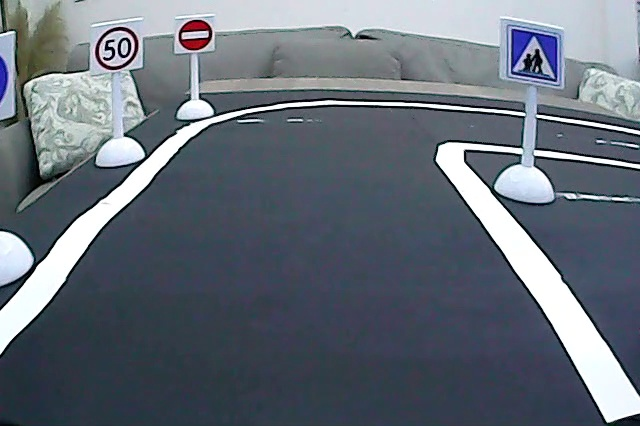do not enter: (176, 18, 216, 54)
school crossing: (503, 23, 563, 87)
speed limit 50: (94, 23, 141, 74)
